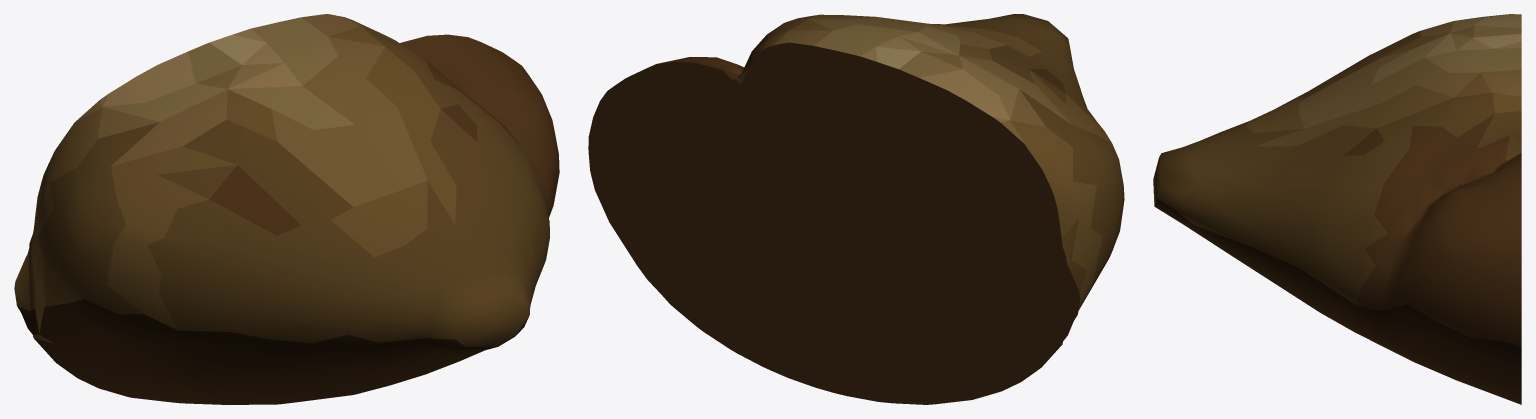
File: ixm_maw_low_89.glb
3 views of the same model, side by side, from view 1: azimuth 30°, elevation 25°; view 2: azimuth 150°, elevation 25°; view 3: azimuth 270°, elevation 25° (orthographic). The views are drawn at different scales.
Visible parts, largest first — view 1: ixm_maw_low_89; view 2: ixm_maw_low_89; view 3: ixm_maw_low_89.
Part boxes in pixels (x1,y1,x2,y2): ixm_maw_low_89: [14, 14, 559, 404]; ixm_maw_low_89: [588, 14, 1124, 404]; ixm_maw_low_89: [1153, 14, 1521, 404].
Size of the model in its own units: 14.91 by 9.94 by 10.57.
